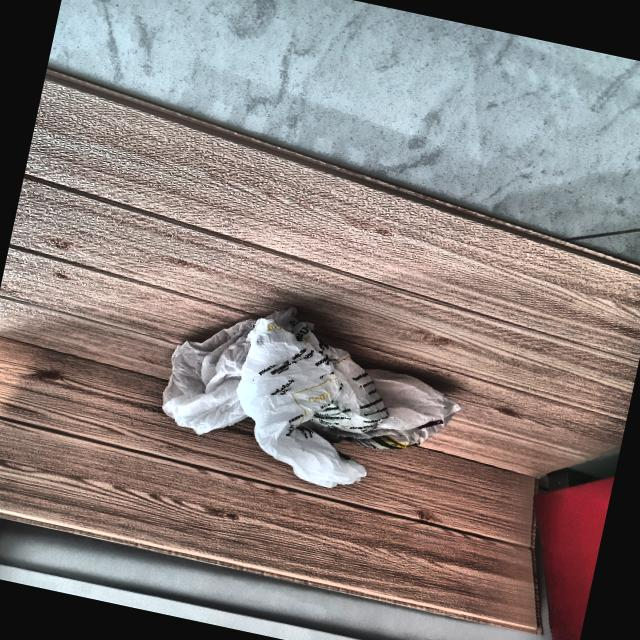plastic bag: (114, 269, 503, 526)
